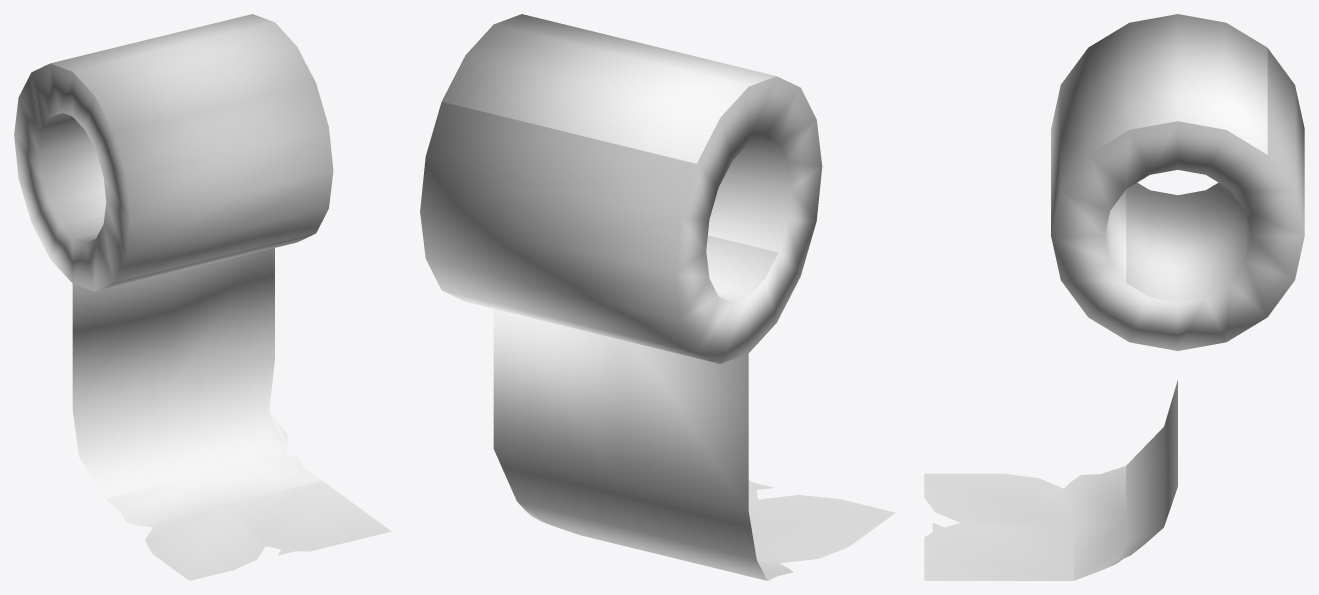
Rendered from Props_TissueToilet_01.fbx.
The picture shows the model from 3 angles, left to right: view 1: azimuth 30°, elevation 25°; view 2: azimuth 150°, elevation 25°; view 3: azimuth 270°, elevation 25°; orthographic projection. The views are drawn at different scales.
Visible parts, largest first — view 1: Props_TissueToilet_01; view 2: Props_TissueToilet_01; view 3: Props_TissueToilet_01.
Boxes of the visible parts, x1=… form: Props_TissueToilet_01: x1=14, y1=14, x2=391, y2=580; Props_TissueToilet_01: x1=420, y1=14, x2=895, y2=580; Props_TissueToilet_01: x1=924, y1=14, x2=1304, y2=580.
Size of the model in its own units: 100 by 200 by 150.
